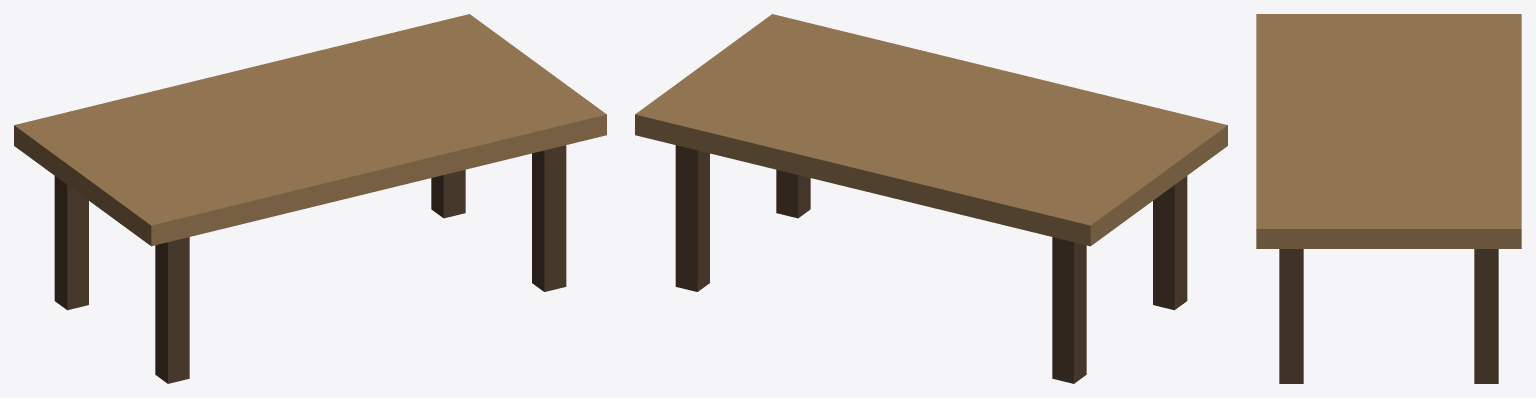
Rendered from table.glb.
3 renders of one model, left to right at view 1: azimuth 30°, elevation 25°; view 2: azimuth 150°, elevation 25°; view 3: azimuth 270°, elevation 25°, orthographic. The views are drawn at different scales.
Bounding box in the file's own units: 1.15 × 0.42 × 0.6.
